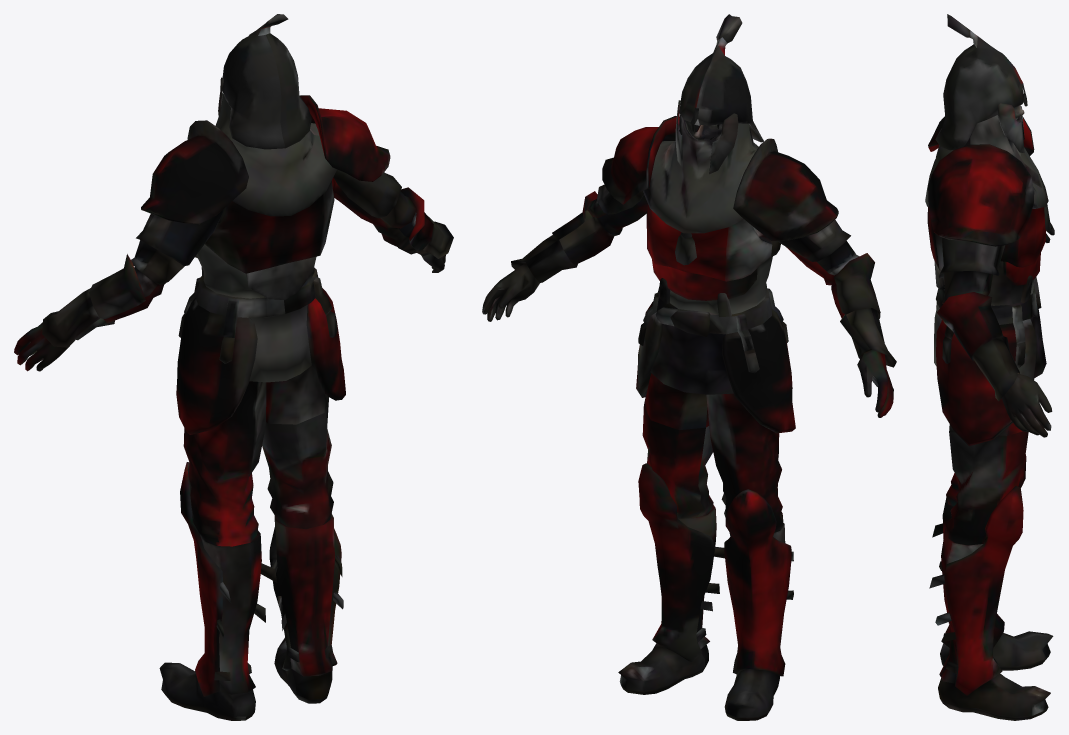
The picture shows the model from 3 angles, left to right: view 1: azimuth 30°, elevation 25°; view 2: azimuth 150°, elevation 25°; view 3: azimuth 270°, elevation 25°; orthographic projection. The views are drawn at different scales.
Parts seen in each view (by area): view 1: mesh_0; view 2: mesh_0; view 3: mesh_0.
Boxes of the visible parts, x1=… form: mesh_0: x1=14, y1=14, x2=453, y2=720; mesh_0: x1=482, y1=14, x2=896, y2=720; mesh_0: x1=925, y1=14, x2=1054, y2=720.
Bounding box in the file's own units: 49.62 × 77.39 × 13.56.
Materials: 1 (1 with a texture image).
